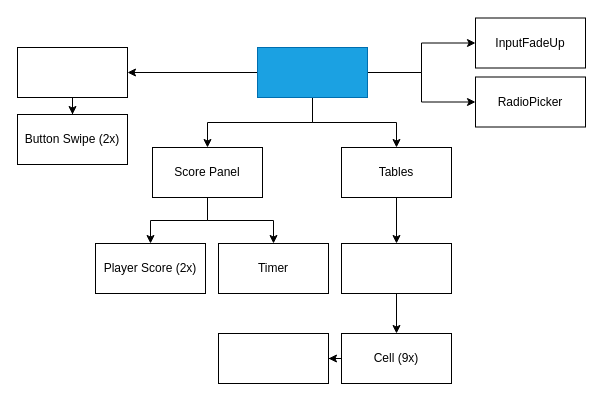
Image size: 603x401. Some labels were removed from this diagram. Here are the shapes that lost their labels. From the top down, the box of each, then its label:
(16, 46, 128, 98): Modal (3x)
(256, 46, 368, 98): App
(340, 242, 452, 294): Board (9x)
(218, 332, 328, 384): FontAwesomeIcon
